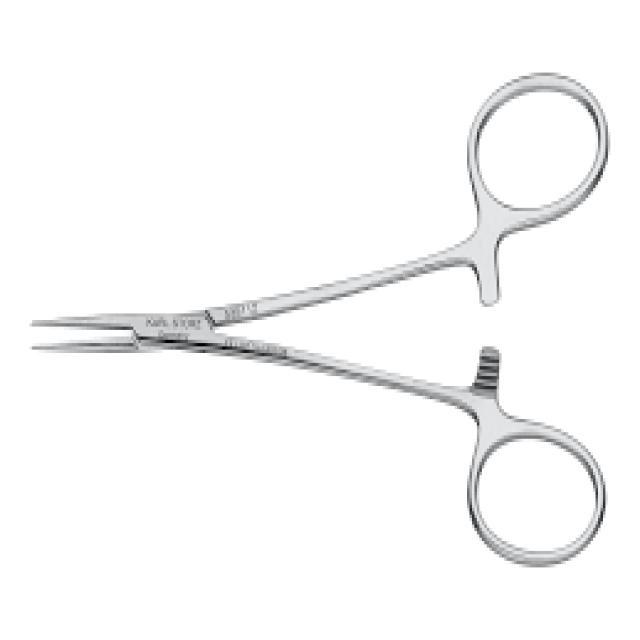Artery Forceps: (24, 64, 610, 576)
